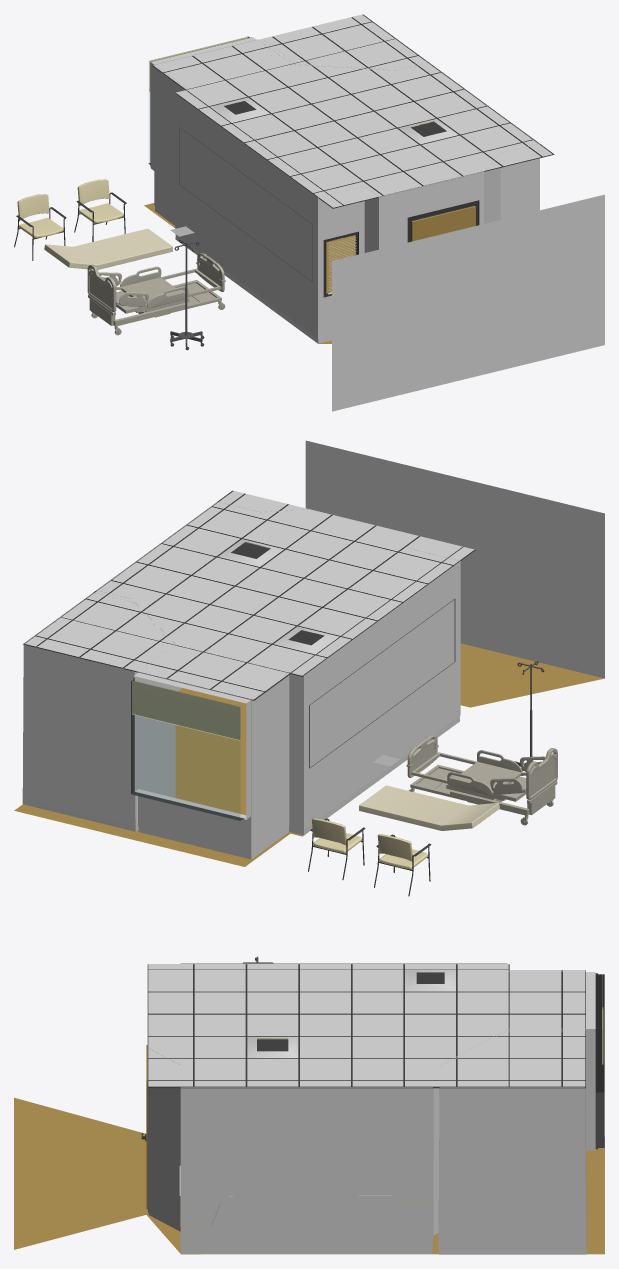
Rendered from Room_Tex.fbx.
3 renders of one model, top to bottom at view 1: azimuth 30°, elevation 25°; view 2: azimuth 150°, elevation 25°; view 3: azimuth 270°, elevation 25°, orthographic. The views are drawn at different scales.
Parts seen in each view (by area): view 1: Floor, Ceiling, Walls, Bed, Mattress, Chair1, Chair2, Door_Entrance, IVstand; view 2: Walls, Ceiling, Floor, Bed, Blinds_Large, Mattress, Chair2, Chair1; view 3: Walls, Ceiling, Floor.
Boxes of the visible parts, box(x1,y1,x2,y2) form: Floor: box(144, 194, 604, 411); Ceiling: box(152, 14, 554, 208); Walls: box(148, 14, 539, 343); Bed: box(87, 253, 225, 335); Mattress: box(44, 228, 172, 269); Chair1: box(74, 179, 126, 241); Chair2: box(14, 194, 66, 260); Door_Entrance: box(411, 210, 459, 241); IVstand: box(170, 239, 204, 350); Walls: box(22, 501, 460, 859); Ceiling: box(23, 490, 475, 700); Floor: box(14, 440, 604, 866); Bed: box(406, 735, 557, 825); Blinds_Large: box(132, 680, 240, 740); Mattress: box(359, 785, 499, 830); Chair2: box(374, 834, 431, 896); Chair1: box(308, 818, 365, 879); Walls: box(146, 963, 604, 1254); Ceiling: box(147, 964, 585, 1088); Floor: box(14, 1097, 604, 1254).
Size of the model in its own units: 23.57 by 9.2 by 28.57.
